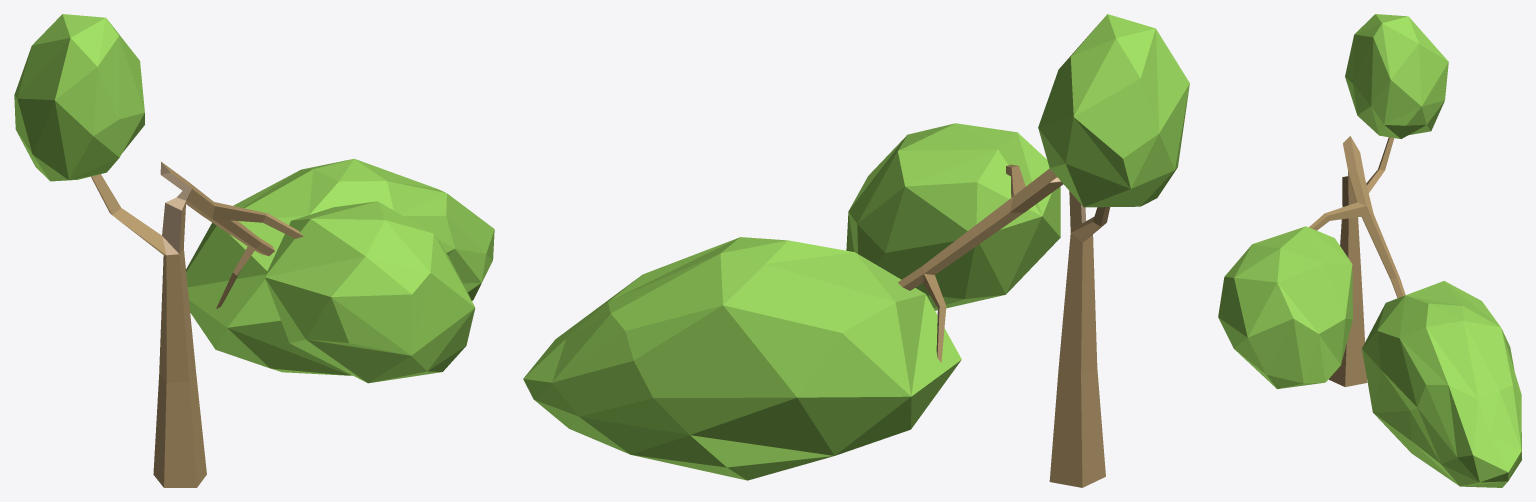
The model's file is Random_Tree_crk_m_04.fbx.
3 renders of one model, left to right at view 1: azimuth 30°, elevation 25°; view 2: azimuth 150°, elevation 25°; view 3: azimuth 270°, elevation 25°, orthographic. The views are drawn at different scales.
Parts seen in each view (by area): view 1: Random_Tree_crk_m_04; view 2: Random_Tree_crk_m_04; view 3: Random_Tree_crk_m_04.
Boxes of the visible parts, x1,y1,x2,y2 form: Random_Tree_crk_m_04: (14,14,494,487); Random_Tree_crk_m_04: (523,14,1189,487); Random_Tree_crk_m_04: (1218,14,1521,487).
Size of the model in its own units: 650 by 541 by 443.
